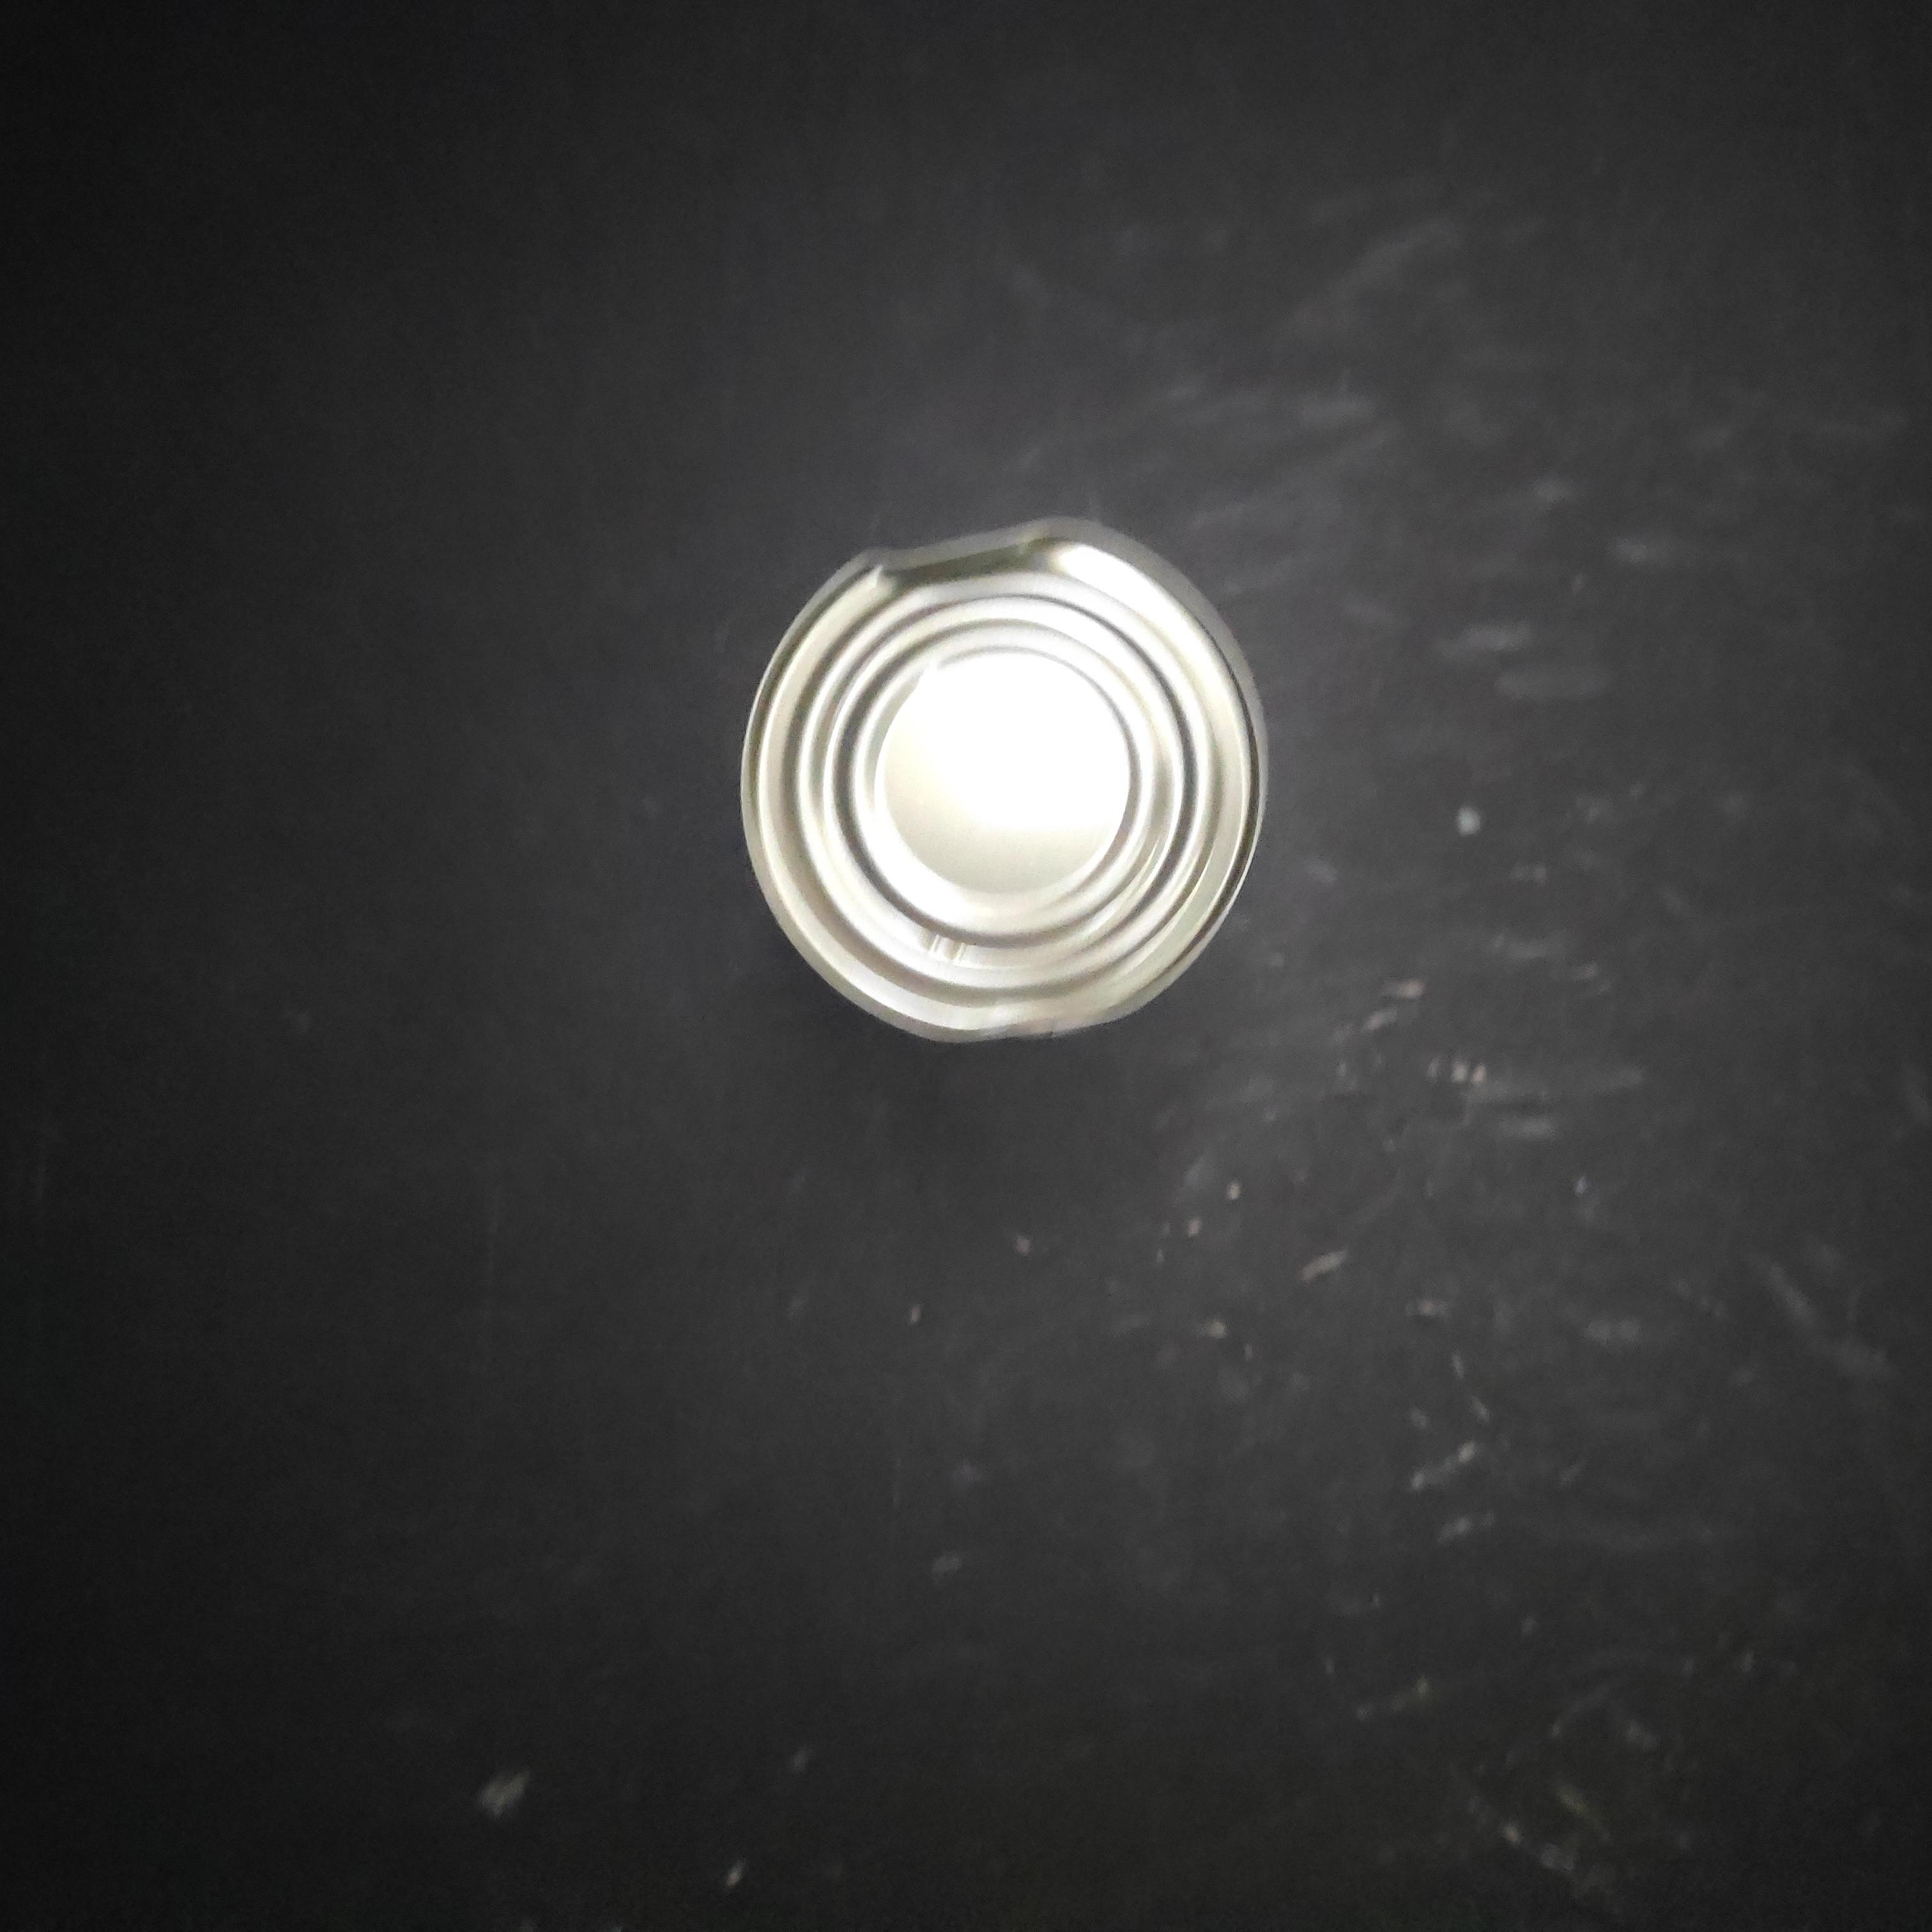Minor Defect: (653, 870, 1205, 1422)
